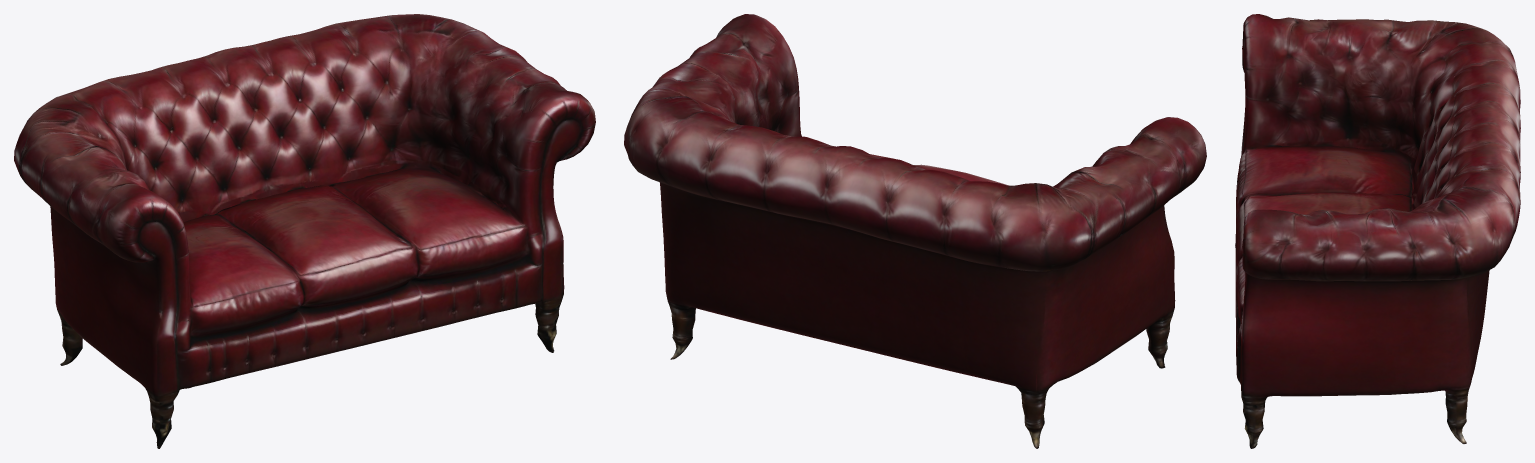
Rendered from couch_1.glb.
3 renders of one model, left to right at view 1: azimuth 30°, elevation 25°; view 2: azimuth 150°, elevation 25°; view 3: azimuth 270°, elevation 25°, orthographic. The views are drawn at different scales.
Bounding box in the file's own units: 2 × 1.03 × 1.08.
1 material, 1 textured.
